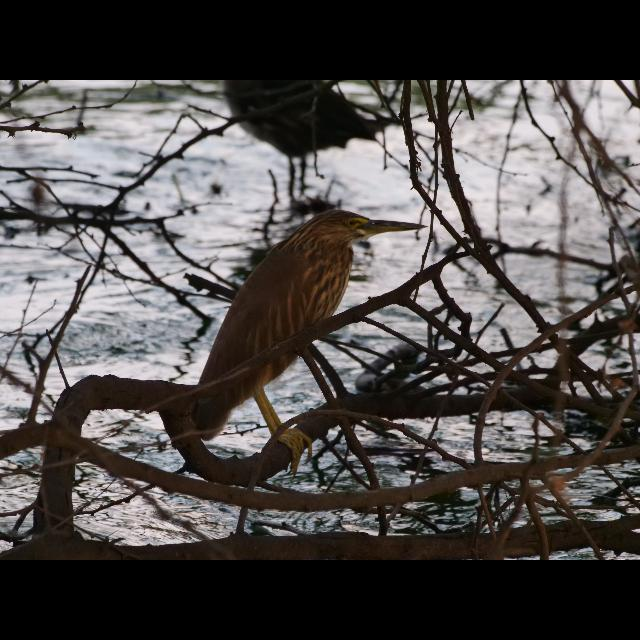heron: (186, 206, 434, 459)
